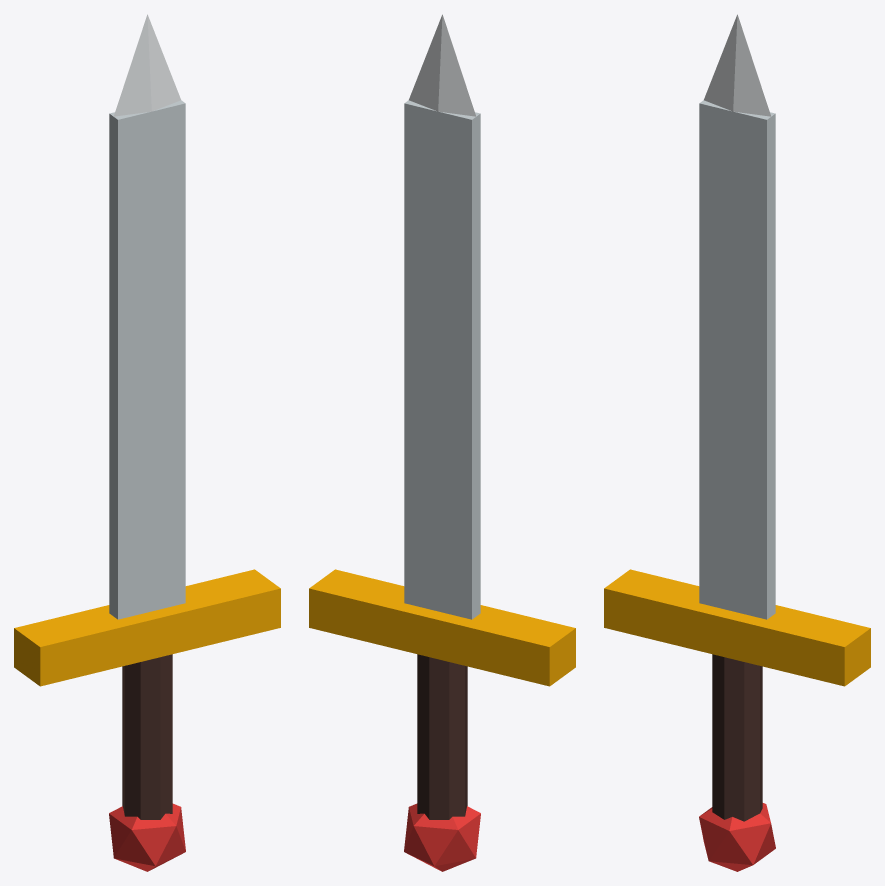
File: sword.fbx
3 renders of one model, left to right at view 1: azimuth 30°, elevation 25°; view 2: azimuth 150°, elevation 25°; view 3: azimuth 330°, elevation 25°, orthographic.
Parts seen in each view (by area): view 1: sword; view 2: sword; view 3: sword.
Part boxes in pixels (left/top/right/bottom): sword: left=14, top=14, right=280, bottom=871; sword: left=309, top=14, right=575, bottom=871; sword: left=604, top=14, right=870, bottom=871.
Size of the model in its own units: 160 by 545 by 42.53.
1 material, 1 textured.
